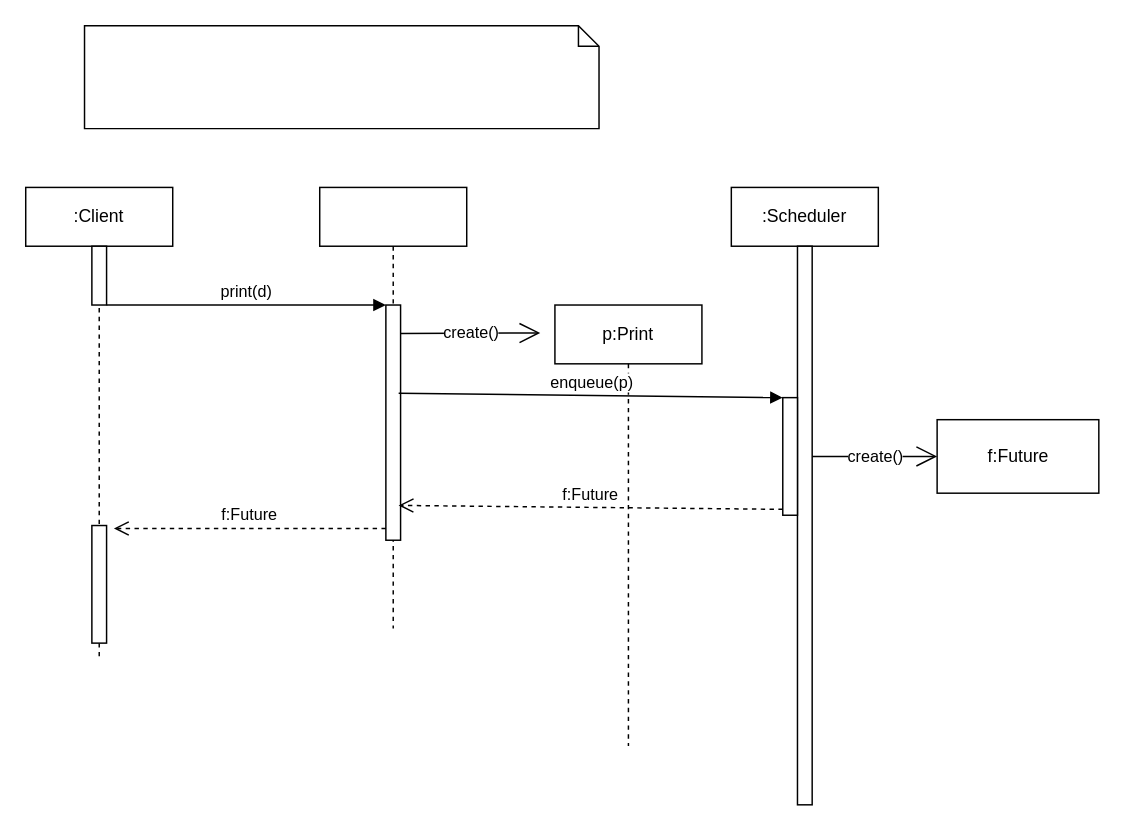
This 1125x831 diagram has some shape labels left out. Here are the shapes that lost their labels. From the top down, the box of each, then its label:
(83, 24, 599, 129): Phase 1 : demande service par le client
(318, 186, 467, 628): :PrintingProxy
